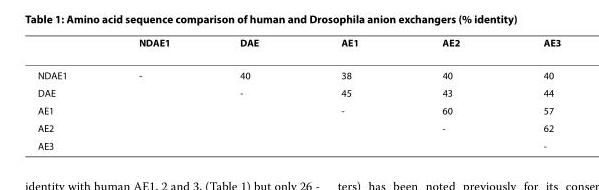table: (36, 36, 560, 151)
table column: (102, 36, 204, 151), (399, 36, 501, 151), (299, 36, 399, 151), (204, 36, 299, 151), (36, 36, 102, 151), (501, 36, 560, 151)
table column header: (36, 36, 560, 58)
table row: (36, 58, 560, 83), (36, 36, 560, 58), (36, 83, 560, 101), (36, 101, 560, 119), (36, 119, 560, 136), (36, 136, 560, 151)
